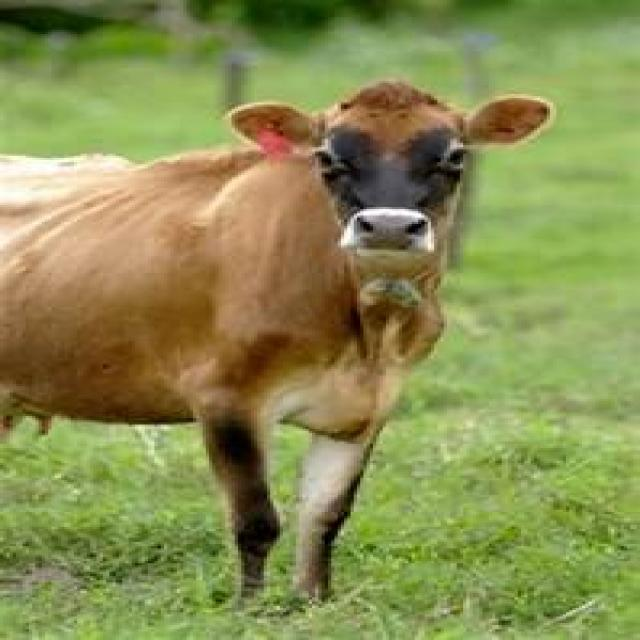cow: (4, 81, 552, 597)
